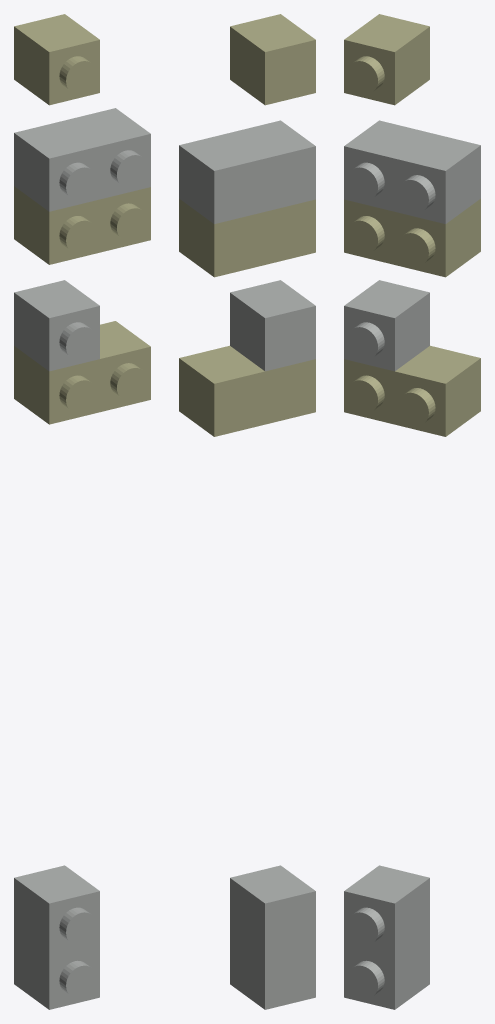
The model's file is current.glb.
The picture shows the model from 3 angles, left to right: view 1: azimuth 30°, elevation 25°; view 2: azimuth 210°, elevation 25°; view 3: azimuth 330°, elevation 25°; orthographic projection.
Parts seen in each view (by area): view 1: world; view 2: world; view 3: world.
Boxes of the visible parts, bbox=[...] form: world: bbox=[14, 14, 150, 1009]; world: bbox=[179, 14, 315, 1009]; world: bbox=[344, 14, 480, 1009].
Size of the model in its own units: 16 by 144 by 11.4.
